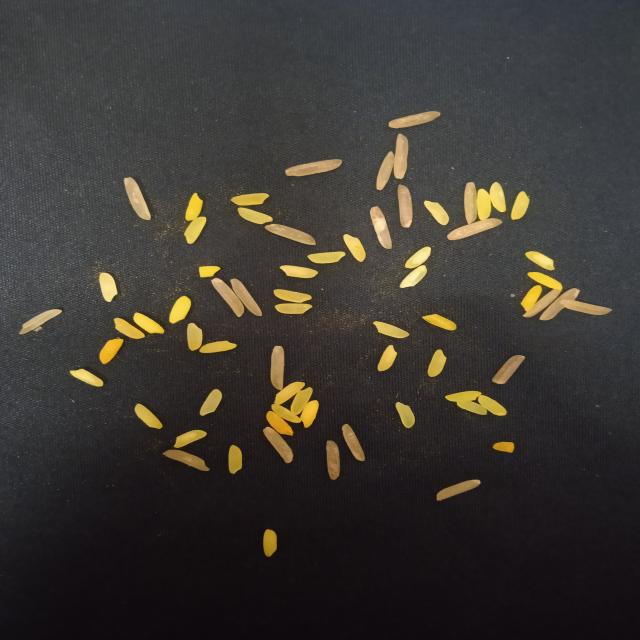Broken: (211, 278, 244, 318), (539, 288, 580, 320), (447, 218, 502, 241), (124, 177, 151, 221), (230, 279, 262, 316), (263, 426, 293, 464), (522, 289, 562, 317), (264, 224, 316, 245), (19, 309, 62, 334), (163, 449, 210, 471), (286, 159, 342, 177), (436, 479, 481, 501), (492, 355, 525, 384), (370, 206, 392, 249), (388, 111, 441, 128), (342, 424, 366, 461), (560, 299, 612, 315), (273, 382, 305, 406), (376, 151, 395, 191), (393, 134, 409, 180), (397, 184, 413, 228), (134, 404, 162, 429), (399, 265, 428, 289), (133, 312, 164, 334), (114, 317, 145, 339), (266, 411, 293, 436), (424, 200, 449, 226), (527, 272, 563, 290), (70, 368, 104, 387), (343, 234, 366, 262), (238, 207, 273, 225), (184, 216, 206, 244), (291, 387, 313, 415), (169, 296, 191, 324), (270, 346, 284, 390), (421, 314, 457, 331), (373, 321, 409, 338), (478, 395, 507, 416), (525, 251, 555, 271), (405, 246, 431, 269), (100, 338, 123, 364), (174, 430, 207, 448), (200, 389, 222, 416), (464, 182, 478, 224), (521, 284, 542, 312), (510, 191, 530, 220), (272, 404, 302, 423), (184, 193, 204, 221), (427, 349, 447, 377), (377, 344, 397, 372), (326, 440, 340, 480), (300, 400, 320, 428), (396, 402, 416, 429), (274, 289, 312, 303), (100, 273, 118, 302), (476, 188, 492, 220), (489, 182, 506, 212), (231, 193, 270, 206), (307, 251, 346, 264), (199, 340, 237, 353), (280, 265, 318, 278), (457, 399, 487, 415), (187, 322, 203, 351), (228, 444, 243, 474), (445, 390, 482, 402), (274, 303, 312, 314), (263, 529, 277, 557), (492, 441, 514, 453), (199, 266, 221, 277)
